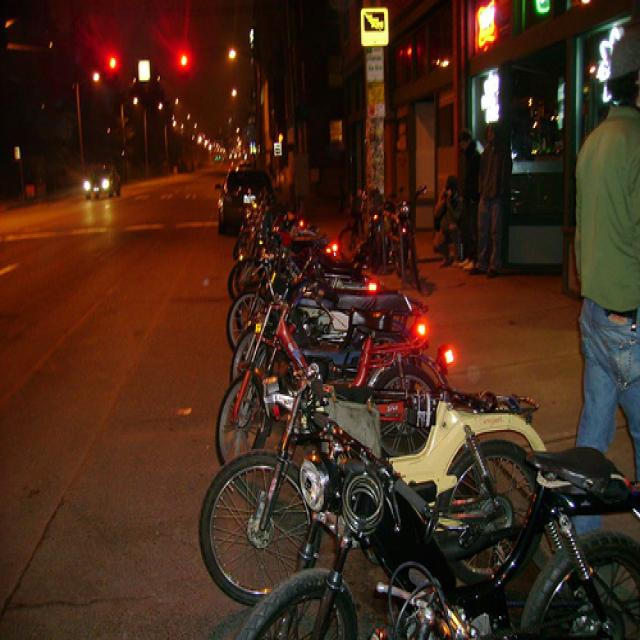Motorbike: (270, 355, 640, 640), (196, 364, 587, 593), (233, 280, 476, 510), (227, 234, 480, 431)
People: (573, 21, 640, 450), (475, 119, 507, 282), (452, 122, 498, 233), (434, 173, 468, 258)
car: (213, 156, 294, 237), (81, 151, 129, 210)
